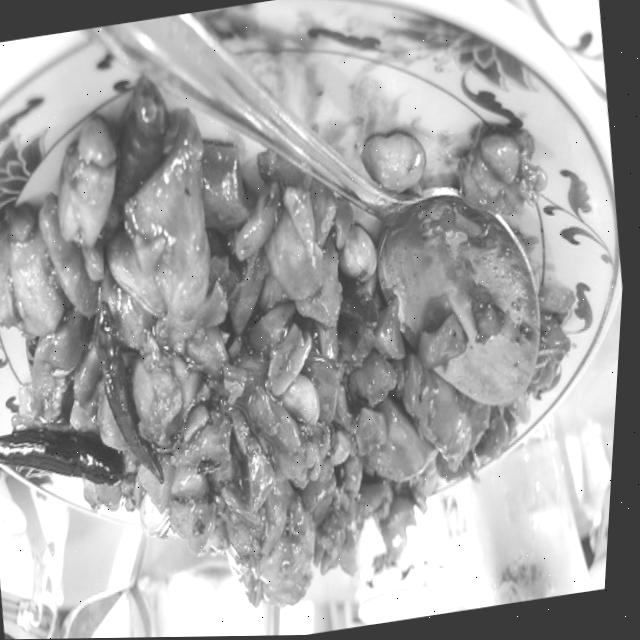鸡肉料理 含炸鸡: (0, 60, 584, 640)
